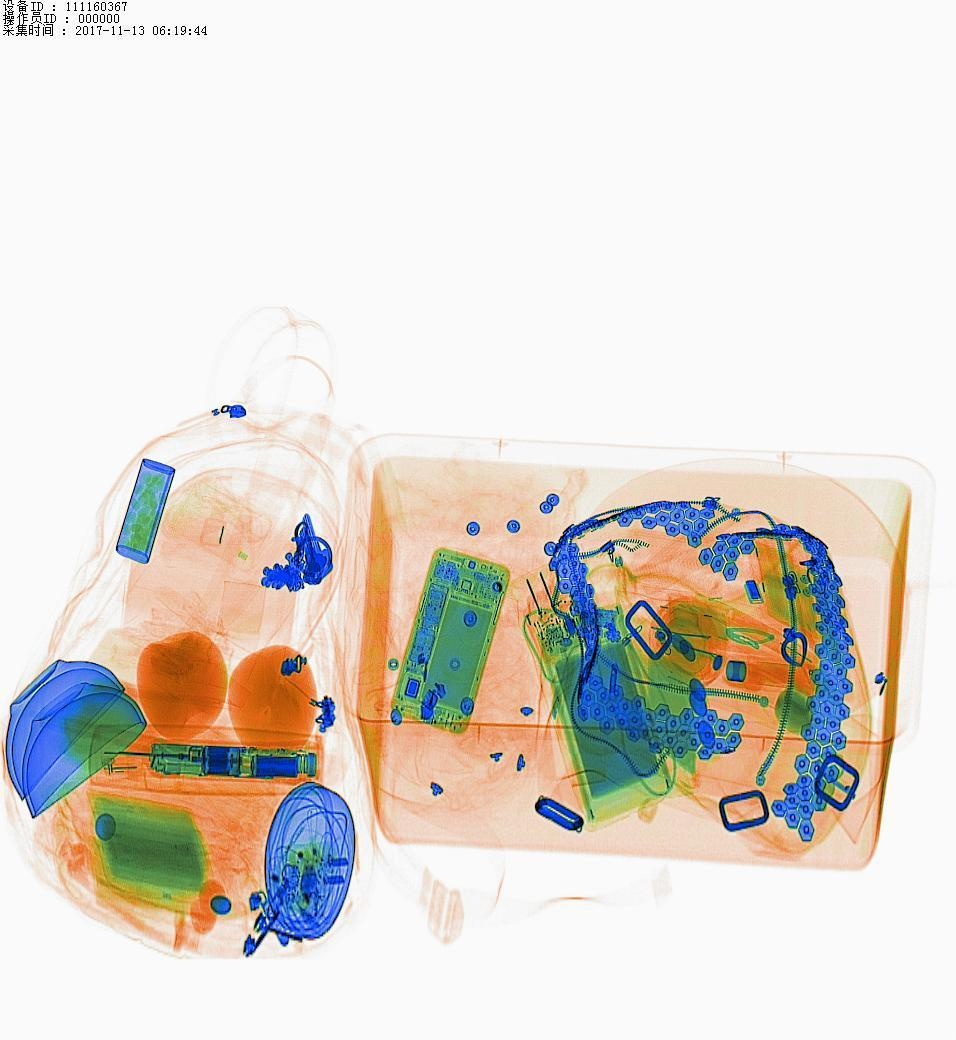coreless: (537, 623, 671, 806)
